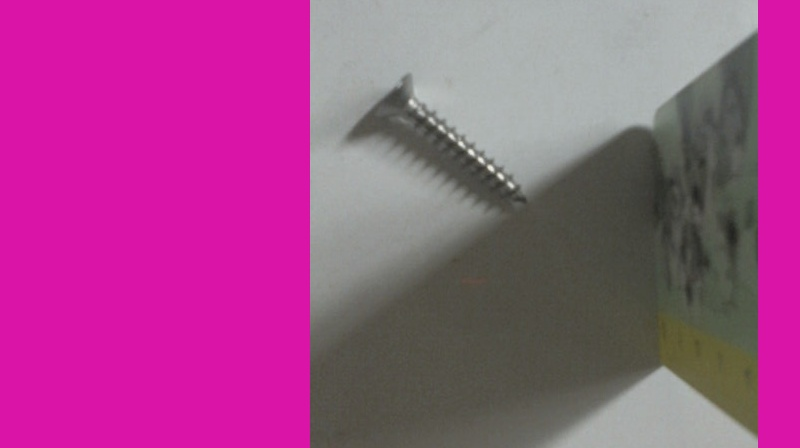S001: (376, 69, 532, 211)
